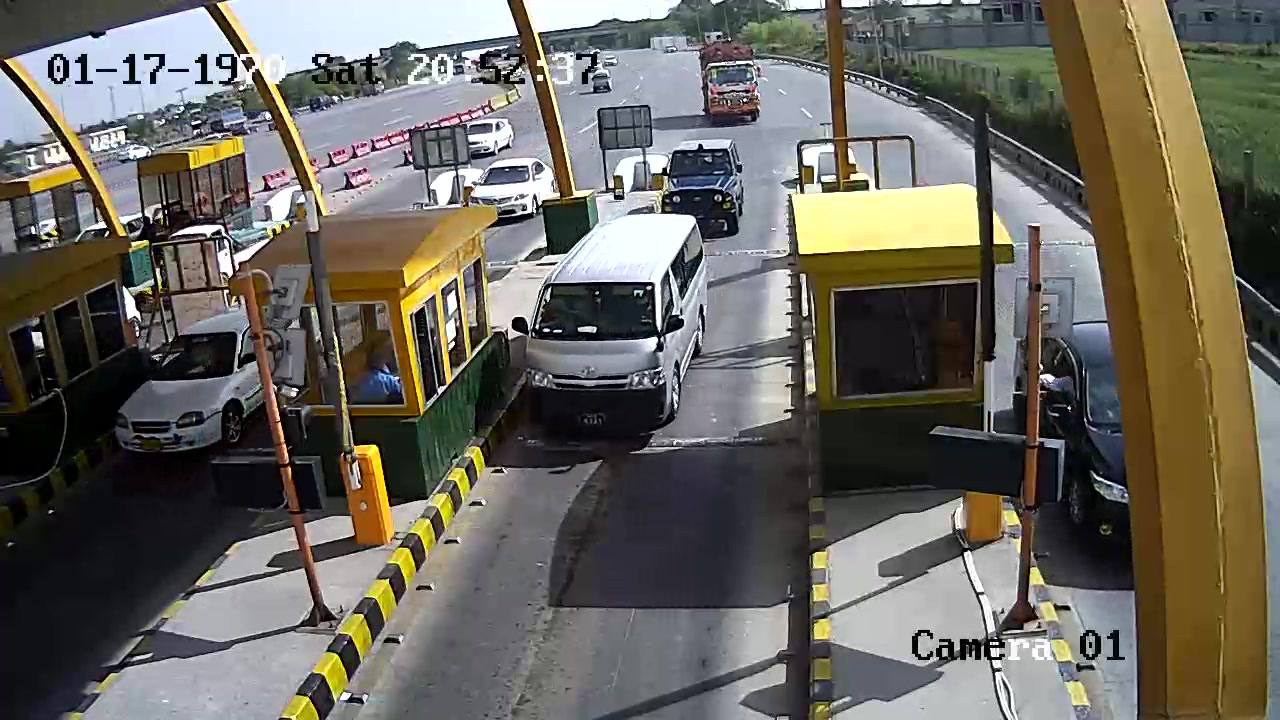F2: (512, 213, 722, 446)
